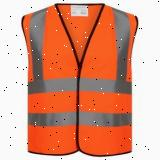Vest: (20, 1, 140, 157)
